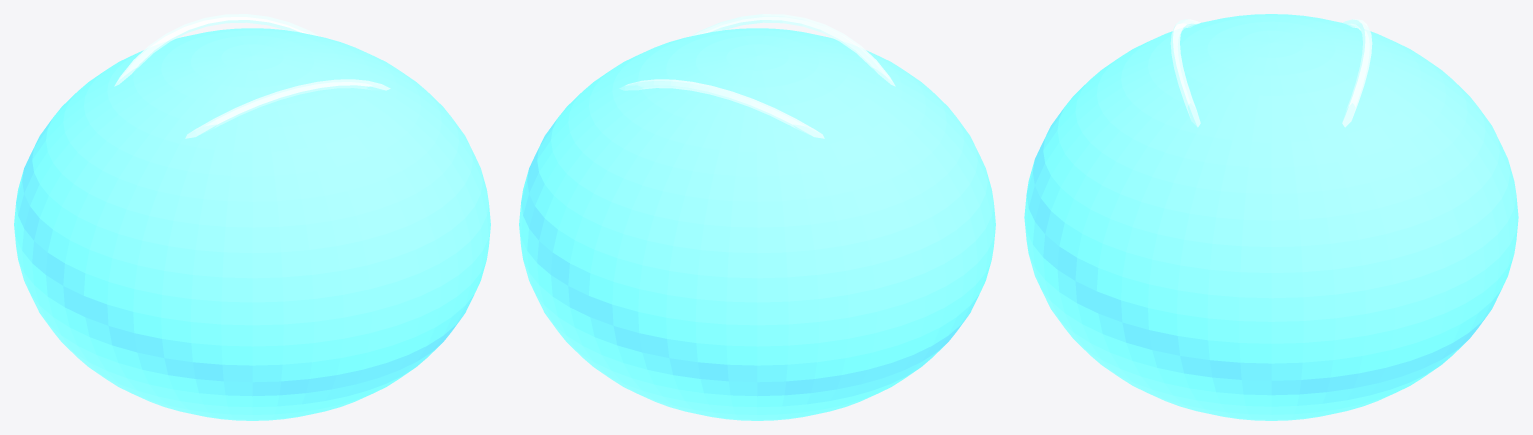
The model's file is effect-ruin-protection.glb.
The picture shows the model from 3 angles, left to right: view 1: azimuth 30°, elevation 25°; view 2: azimuth 150°, elevation 25°; view 3: azimuth 270°, elevation 25°; orthographic projection. The views are drawn at different scales.
Parts seen in each view (by area): view 1: ProtectionDome, ProtectionRing_3, ProtectionRing_2; view 2: ProtectionDome, ProtectionRing_2, ProtectionRing_3; view 3: ProtectionDome, ProtectionRing_2, ProtectionRing_3.
Boxes of the visible parts, <box> form: ProtectionDome: <box>14,28,490,420</box>; ProtectionRing_3: <box>185,79,390,138</box>; ProtectionRing_2: <box>114,14,319,86</box>; ProtectionDome: <box>519,28,995,420</box>; ProtectionRing_2: <box>619,79,824,138</box>; ProtectionRing_3: <box>690,14,895,86</box>; ProtectionDome: <box>1024,14,1518,420</box>; ProtectionRing_2: <box>1342,19,1372,127</box>; ProtectionRing_3: <box>1170,19,1200,127</box>.
Size of the model in its own units: 1.28 by 1.01 by 1.28.
